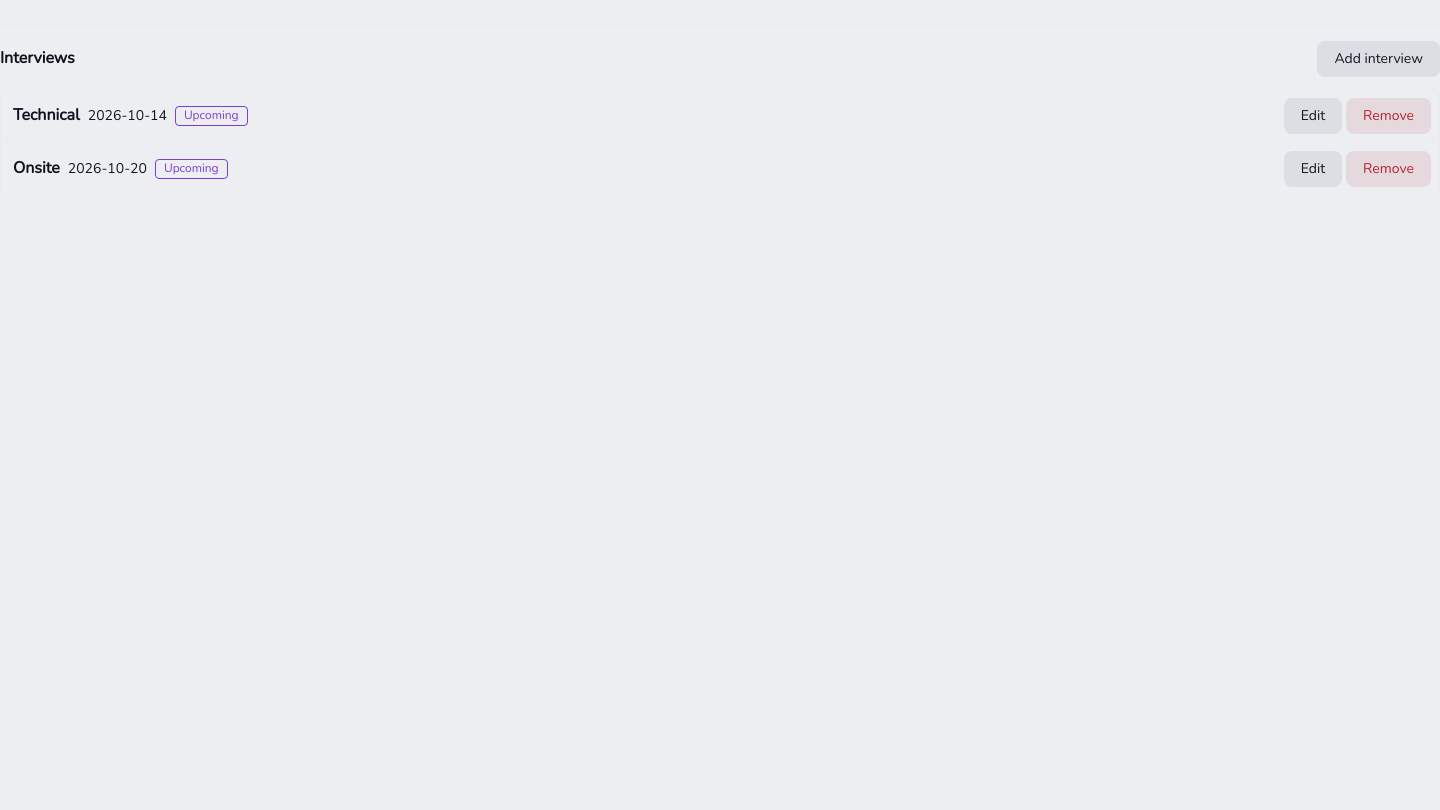
Scenario: InterviewList › removes an interview after confirming
// @when [features/job-interviews.feature] I remove the interview
Click the button with aria-label "Remove Technical interview on 2026-10-14" at [1389, 116], box [1346,98,1431,134]
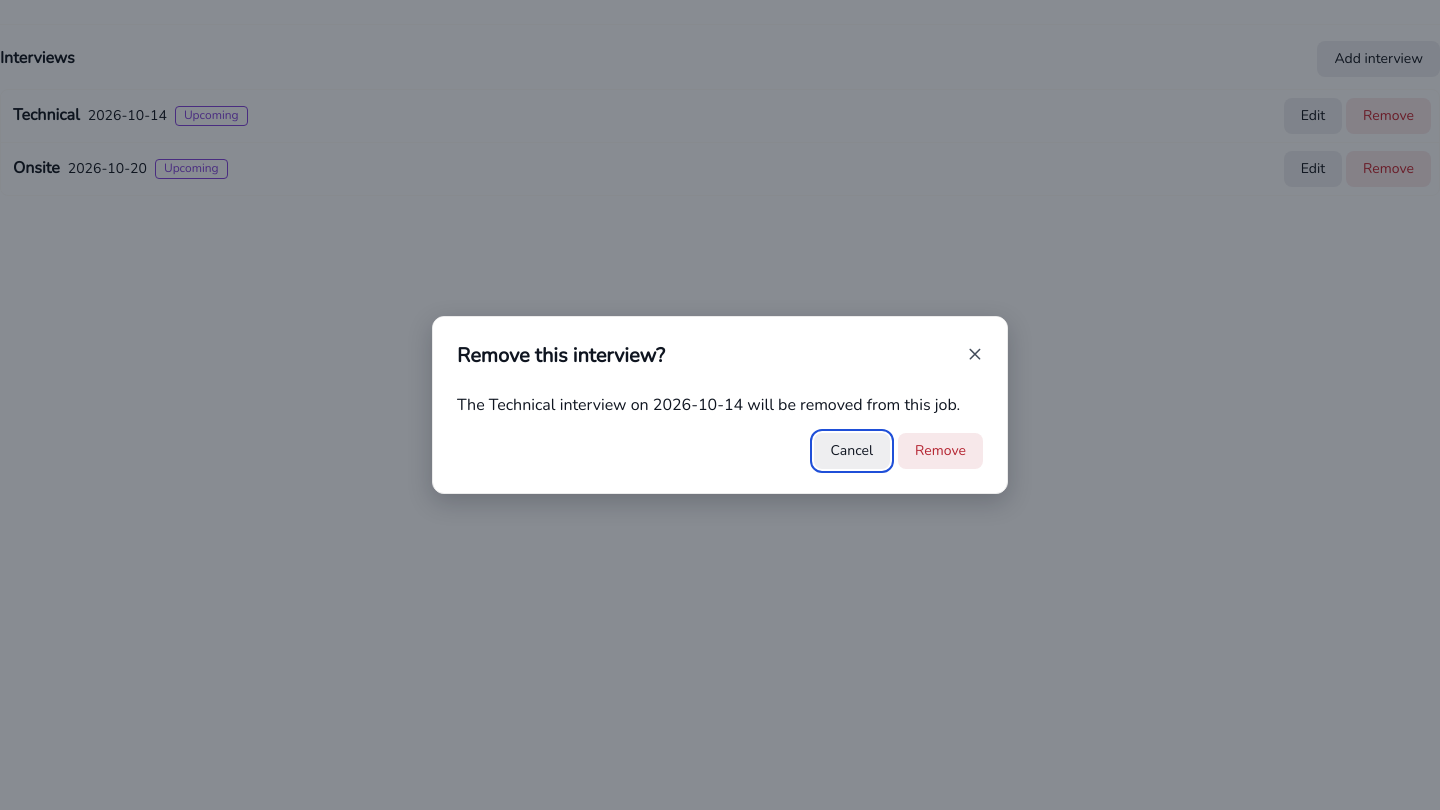
Now the dialog "Remove this interview?" shows "The Technical interview on 2026-10-14 will be removed", box [457,394,960,416]
// @and [features/job-interviews.feature] I confirm the removal
Click the button "Remove" at [941, 451], box [898,433,983,469]
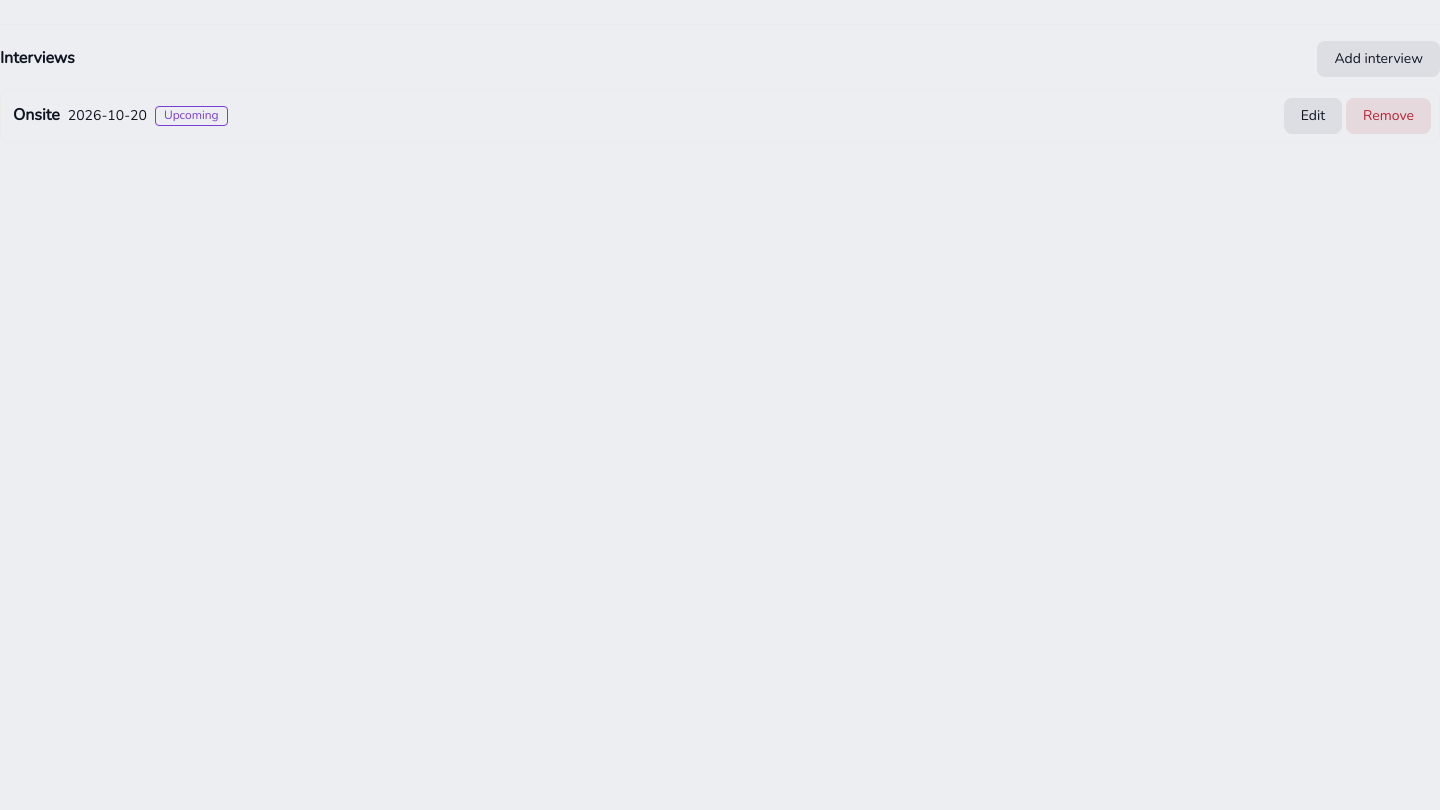
Now the dialog is gone
